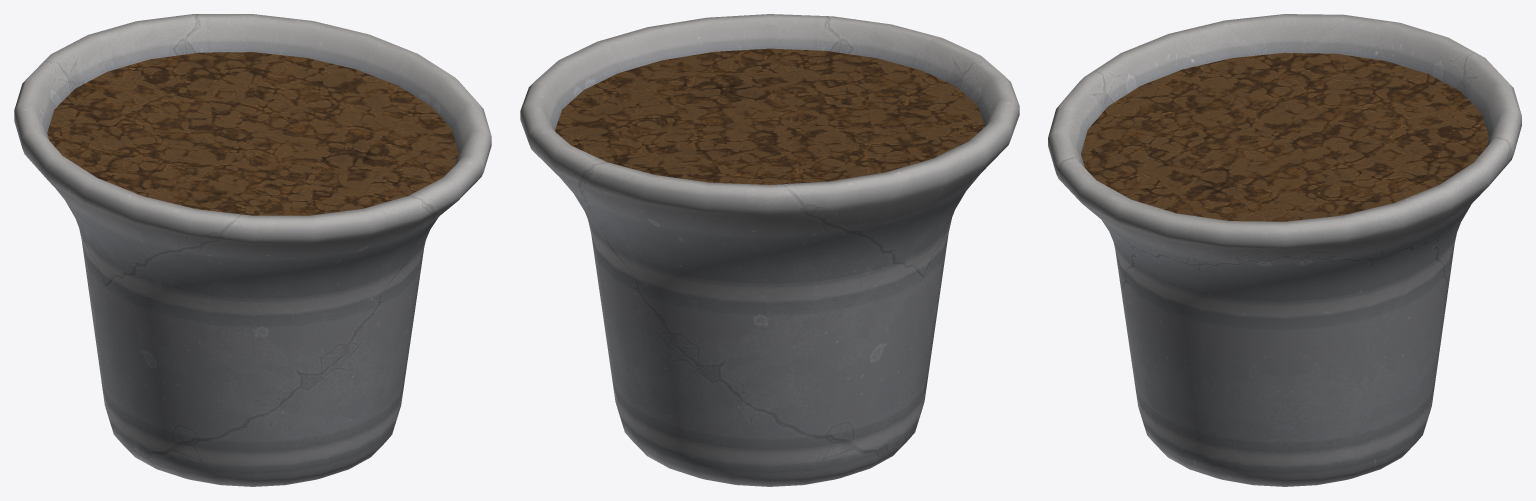
File: StreetPlanter04_3.FBX
The picture shows the model from 3 angles, left to right: view 1: azimuth 30°, elevation 25°; view 2: azimuth 150°, elevation 25°; view 3: azimuth 270°, elevation 25°; orthographic projection. The views are drawn at different scales.
Visible parts, largest first — view 1: StreetPlanter04_3; view 2: StreetPlanter04_3; view 3: StreetPlanter04_3.
Boxes of the visible parts, x1=… form: StreetPlanter04_3: x1=14, y1=14, x2=491, y2=486; StreetPlanter04_3: x1=520, y1=14, x2=1019, y2=486; StreetPlanter04_3: x1=1048, y1=14, x2=1521, y2=486.
Size of what is drawn, in the model's own units: 0.6918 by 0.5313 by 0.6915.
